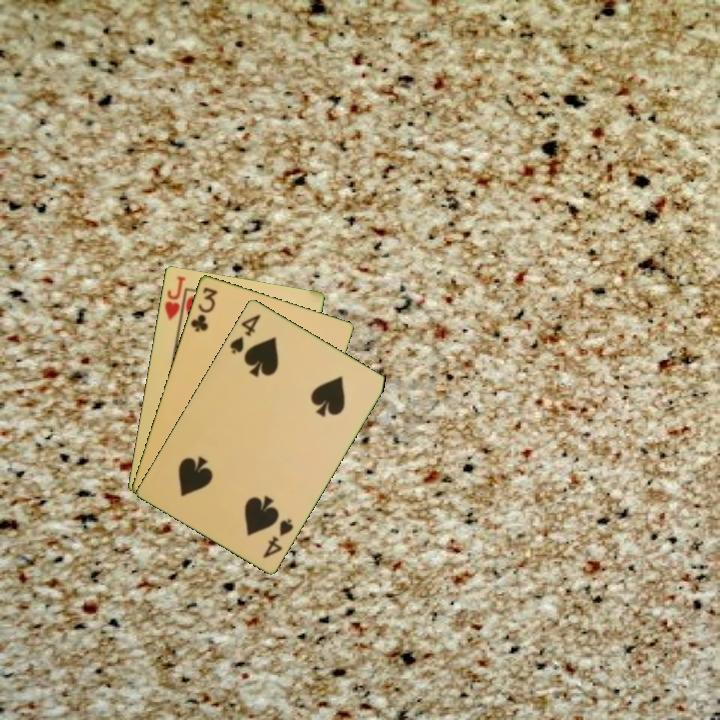3c: (187, 283, 220, 335)
4s: (226, 310, 264, 357), (259, 515, 296, 561)
Jh: (161, 272, 189, 330)
